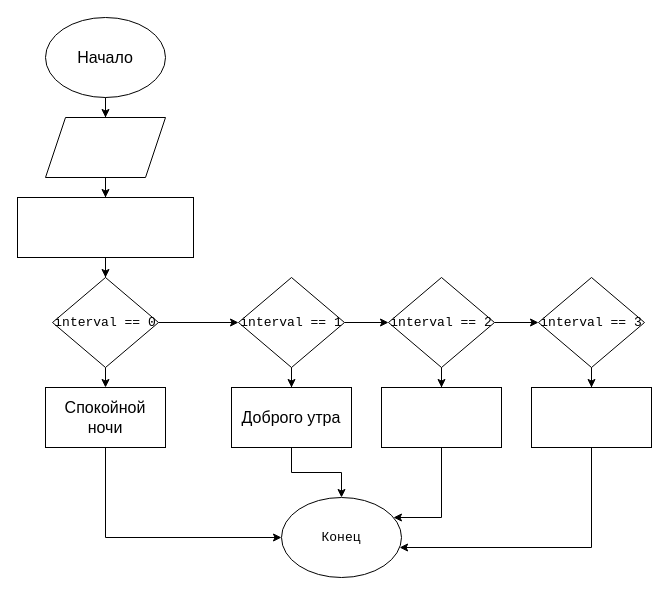
Some shapes in this 669 by 595 pixel diagram are drawn without their labels. The shapes that lost their labels are listed below. From the top down, each one's box as (x1, y1, x2, y2) in pixels, then its label:
(44, 116, 166, 178): hour
(16, 196, 194, 258): interval = hour / 6
(380, 386, 502, 448): Доброго дня
(530, 386, 652, 448): Доброго вечера
